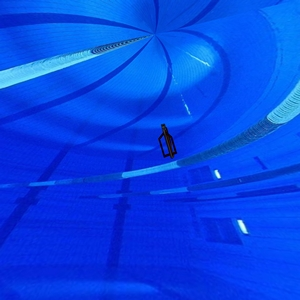submarine: (152, 121, 178, 165)
